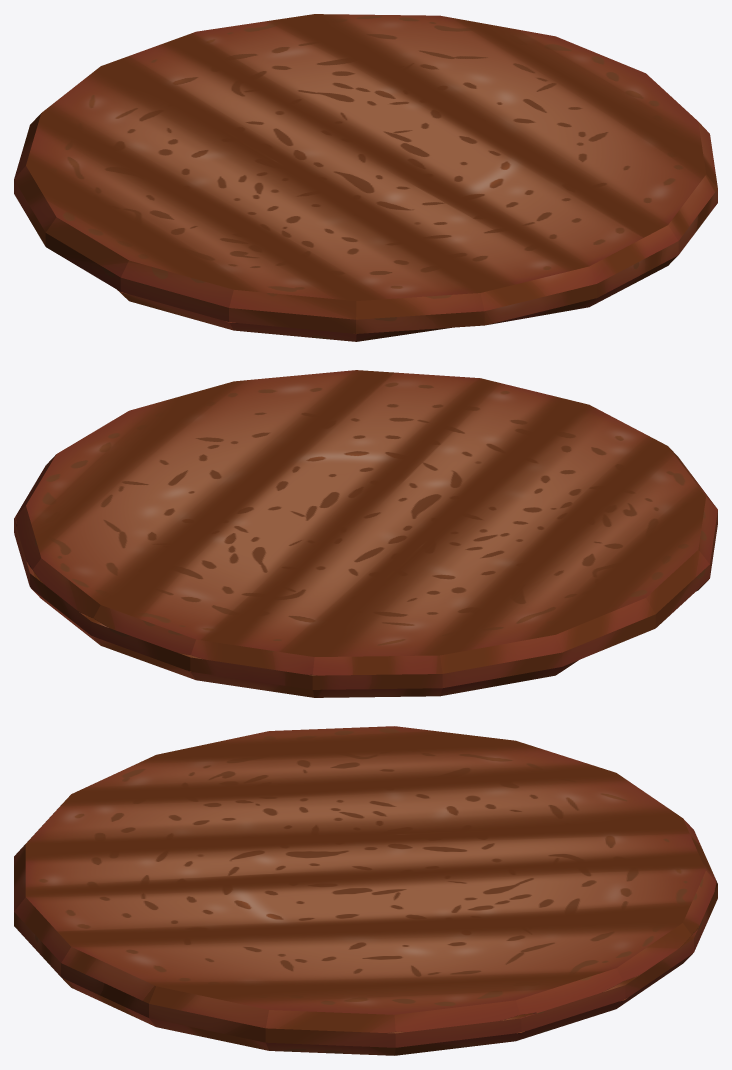
Rendered from hamburguinho fritinho.dae.
3 views of the same model, one above another, from view 1: azimuth 30°, elevation 25°; view 2: azimuth 150°, elevation 25°; view 3: azimuth 270°, elevation 25° (orthographic).
Visible parts, largest first — view 1: Circle; view 2: Circle; view 3: Circle.
Part boxes in pixels (x1,y1,x2,y2): Circle: (14, 14, 717, 341); Circle: (14, 370, 717, 697); Circle: (14, 726, 717, 1055).
Bounding box in the file's own units: 2.06 × 2.05 × 0.1318.
Materials: 1 (1 with a texture image).
